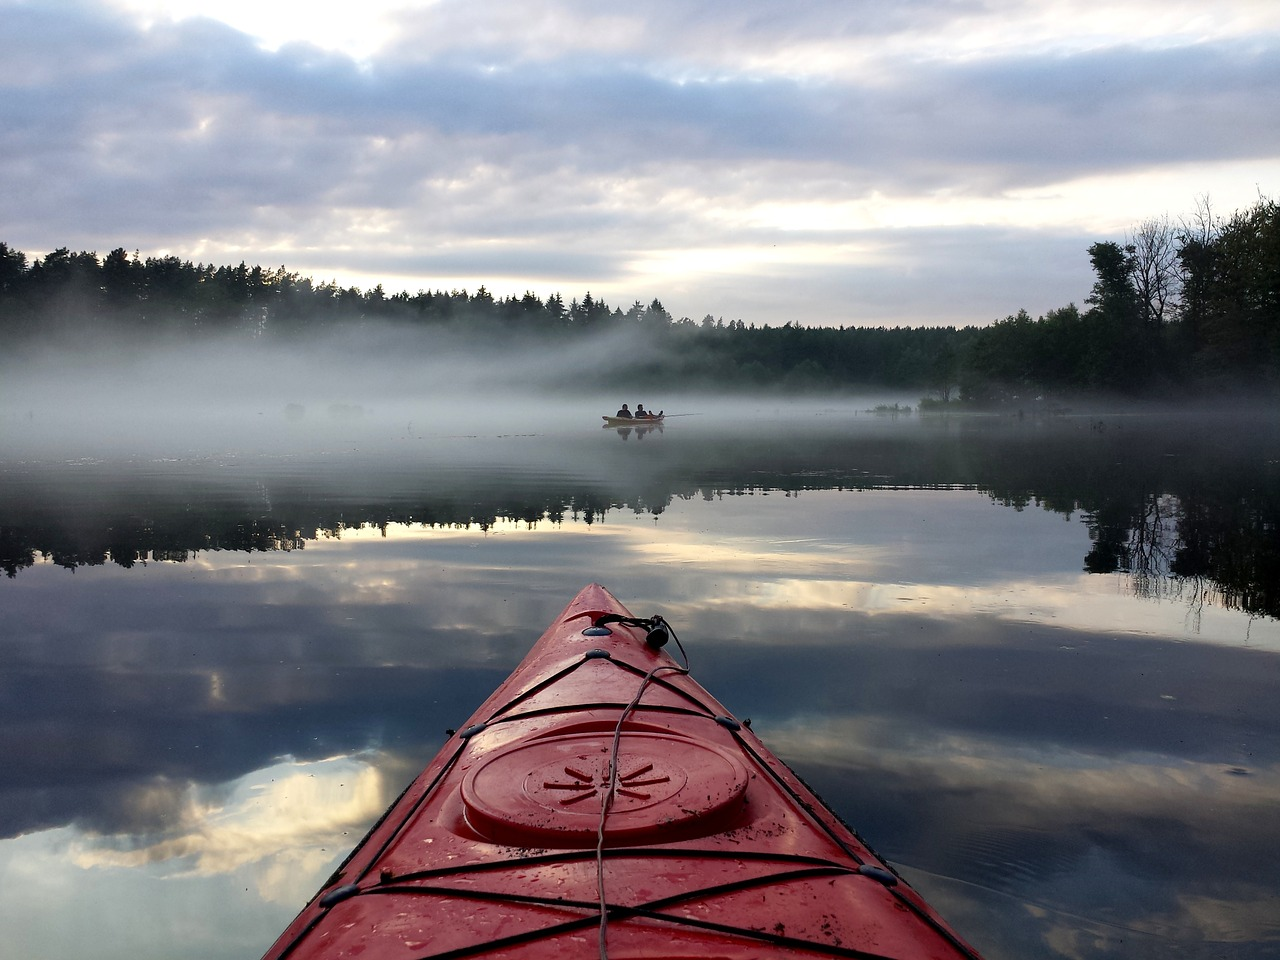kayak: (601, 413, 670, 426)
